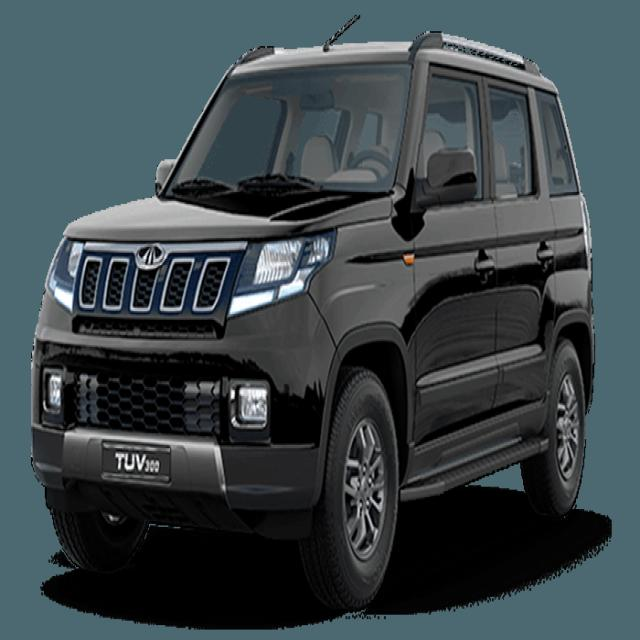light_vehicle: (26, 38, 595, 609)
